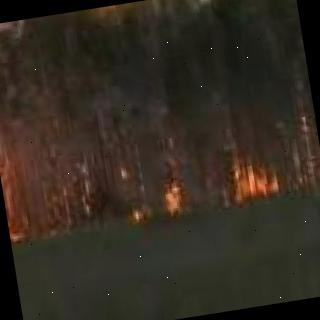fire: (223, 140, 290, 200), (0, 113, 10, 238), (164, 174, 190, 213)
